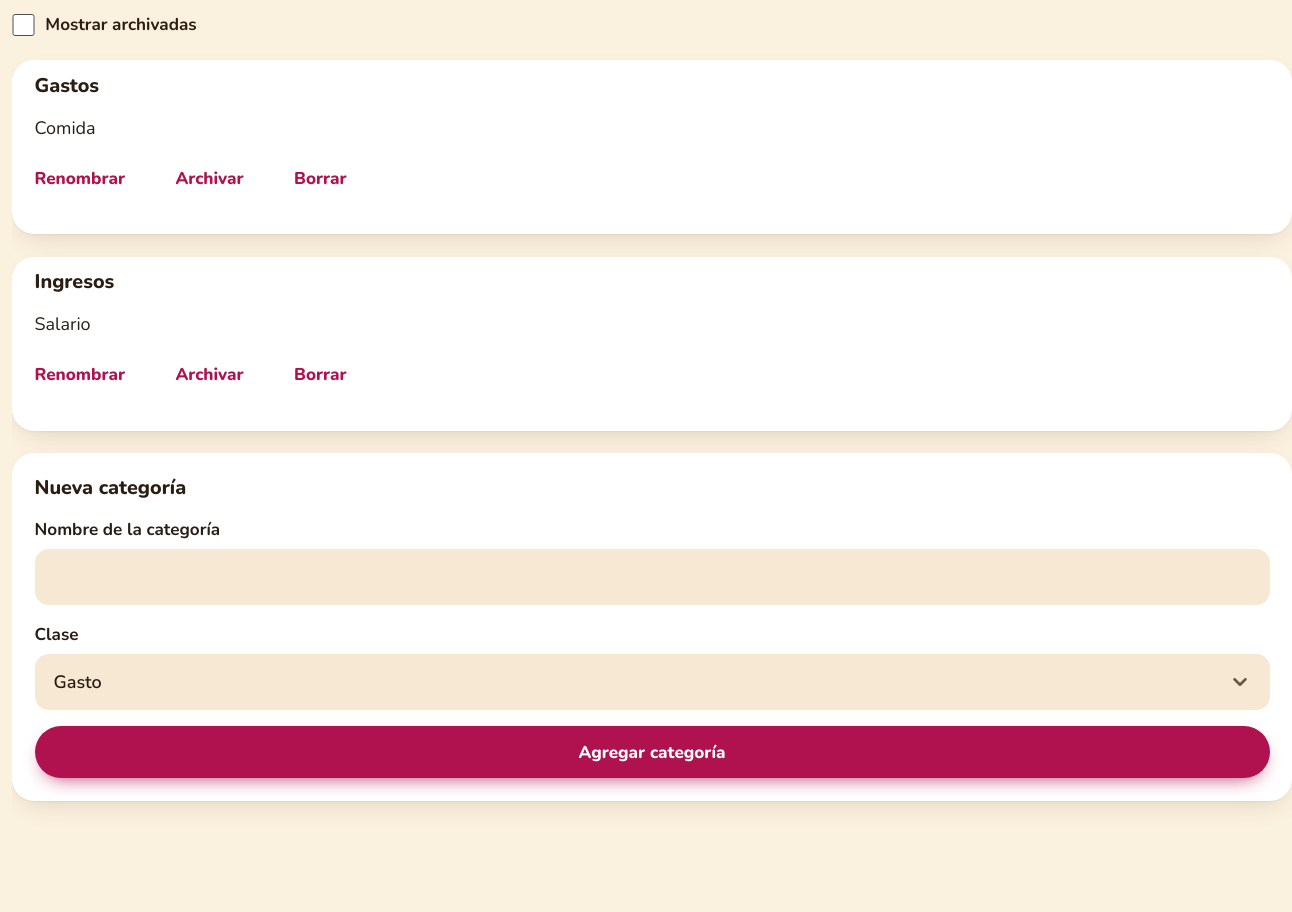
Test: CategoriesManager › explains why a category in use cannot be deleted
Click the button "Borrar" below "Comida". click: [320, 178]
box: [273,152,367,205]
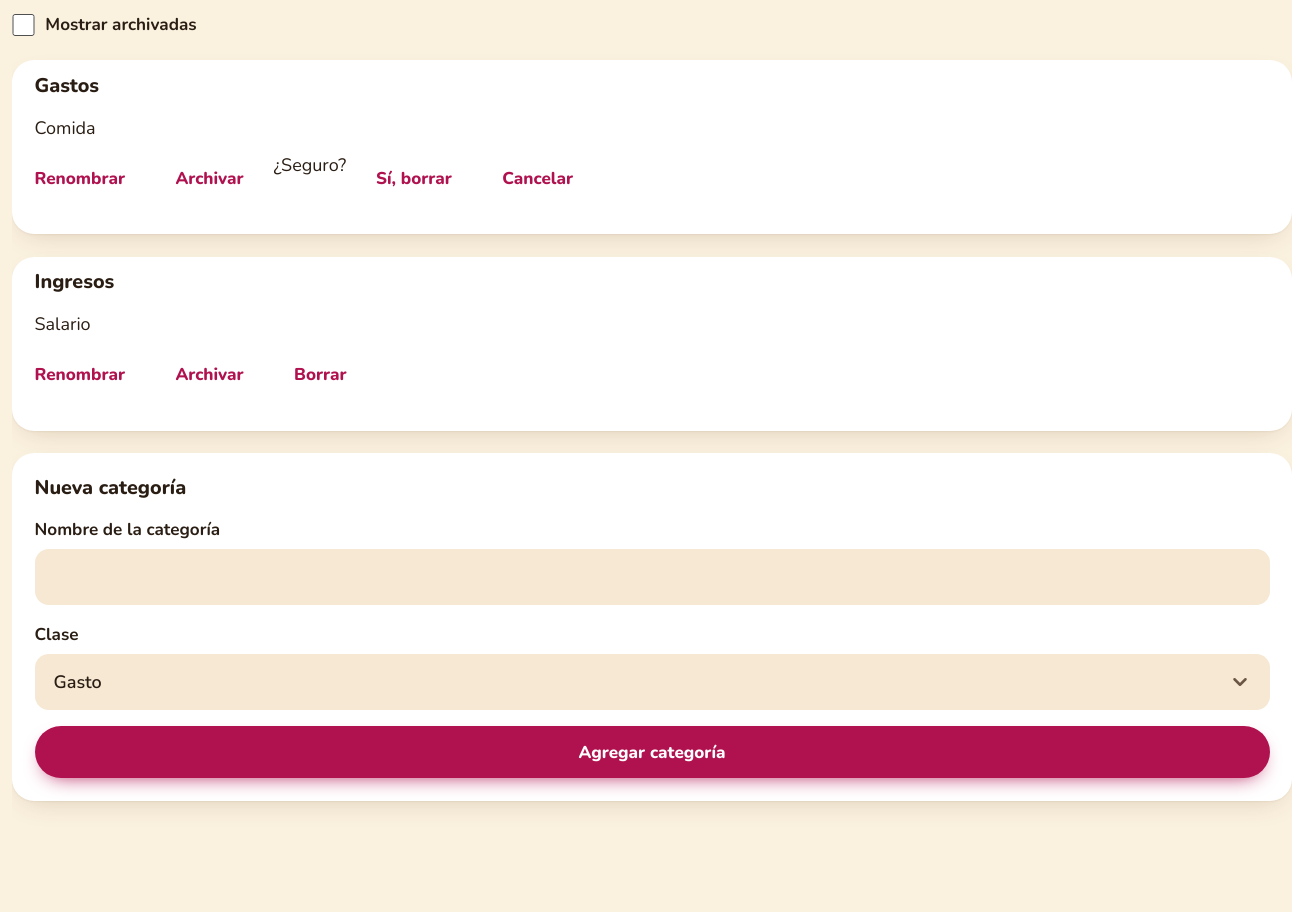
Click the button "Sí, borrar". click: [414, 178]
box: [355,152,473,205]
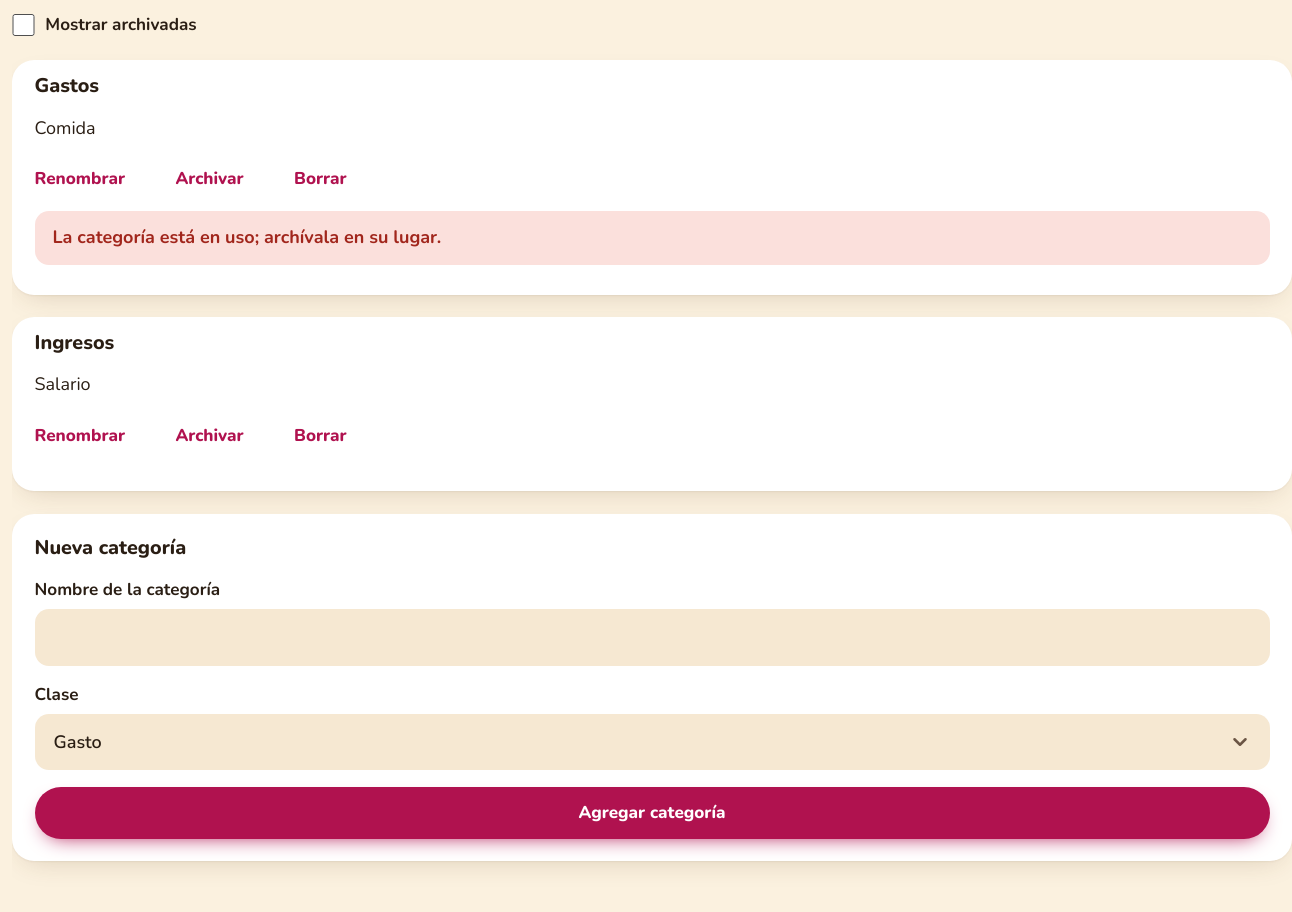
Result: the message shows "La categoría está en uso" at [52,225,441,249]
